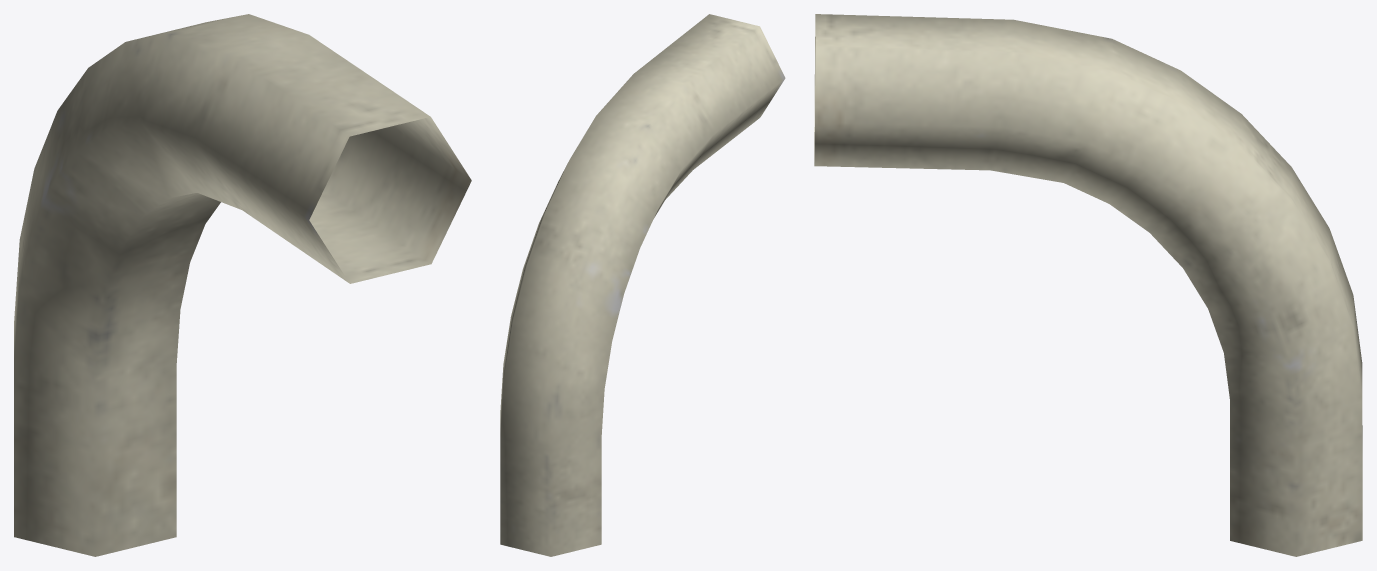
Rendered from SM_Wall_Electrical_Wire_Casing_01b.fbx.
The picture shows the model from 3 angles, left to right: view 1: azimuth 30°, elevation 25°; view 2: azimuth 150°, elevation 25°; view 3: azimuth 270°, elevation 25°; orthographic projection. The views are drawn at different scales.
Visible parts, largest first — view 1: SM_Wall_Electrical_Wire_Casing_01b_LOD0; view 2: SM_Wall_Electrical_Wire_Casing_01b_LOD0; view 3: SM_Wall_Electrical_Wire_Casing_01b_LOD0.
Boxes of the visible parts, left/top/right/bottom form: SM_Wall_Electrical_Wire_Casing_01b_LOD0: left=14, top=14, right=471, bottom=556; SM_Wall_Electrical_Wire_Casing_01b_LOD0: left=500, top=14, right=785, bottom=556; SM_Wall_Electrical_Wire_Casing_01b_LOD0: left=814, top=14, right=1362, bottom=556.
Size of the model in its own units: 2.3 by 8.21 by 8.18.
Materials: 1 (1 with a texture image).
